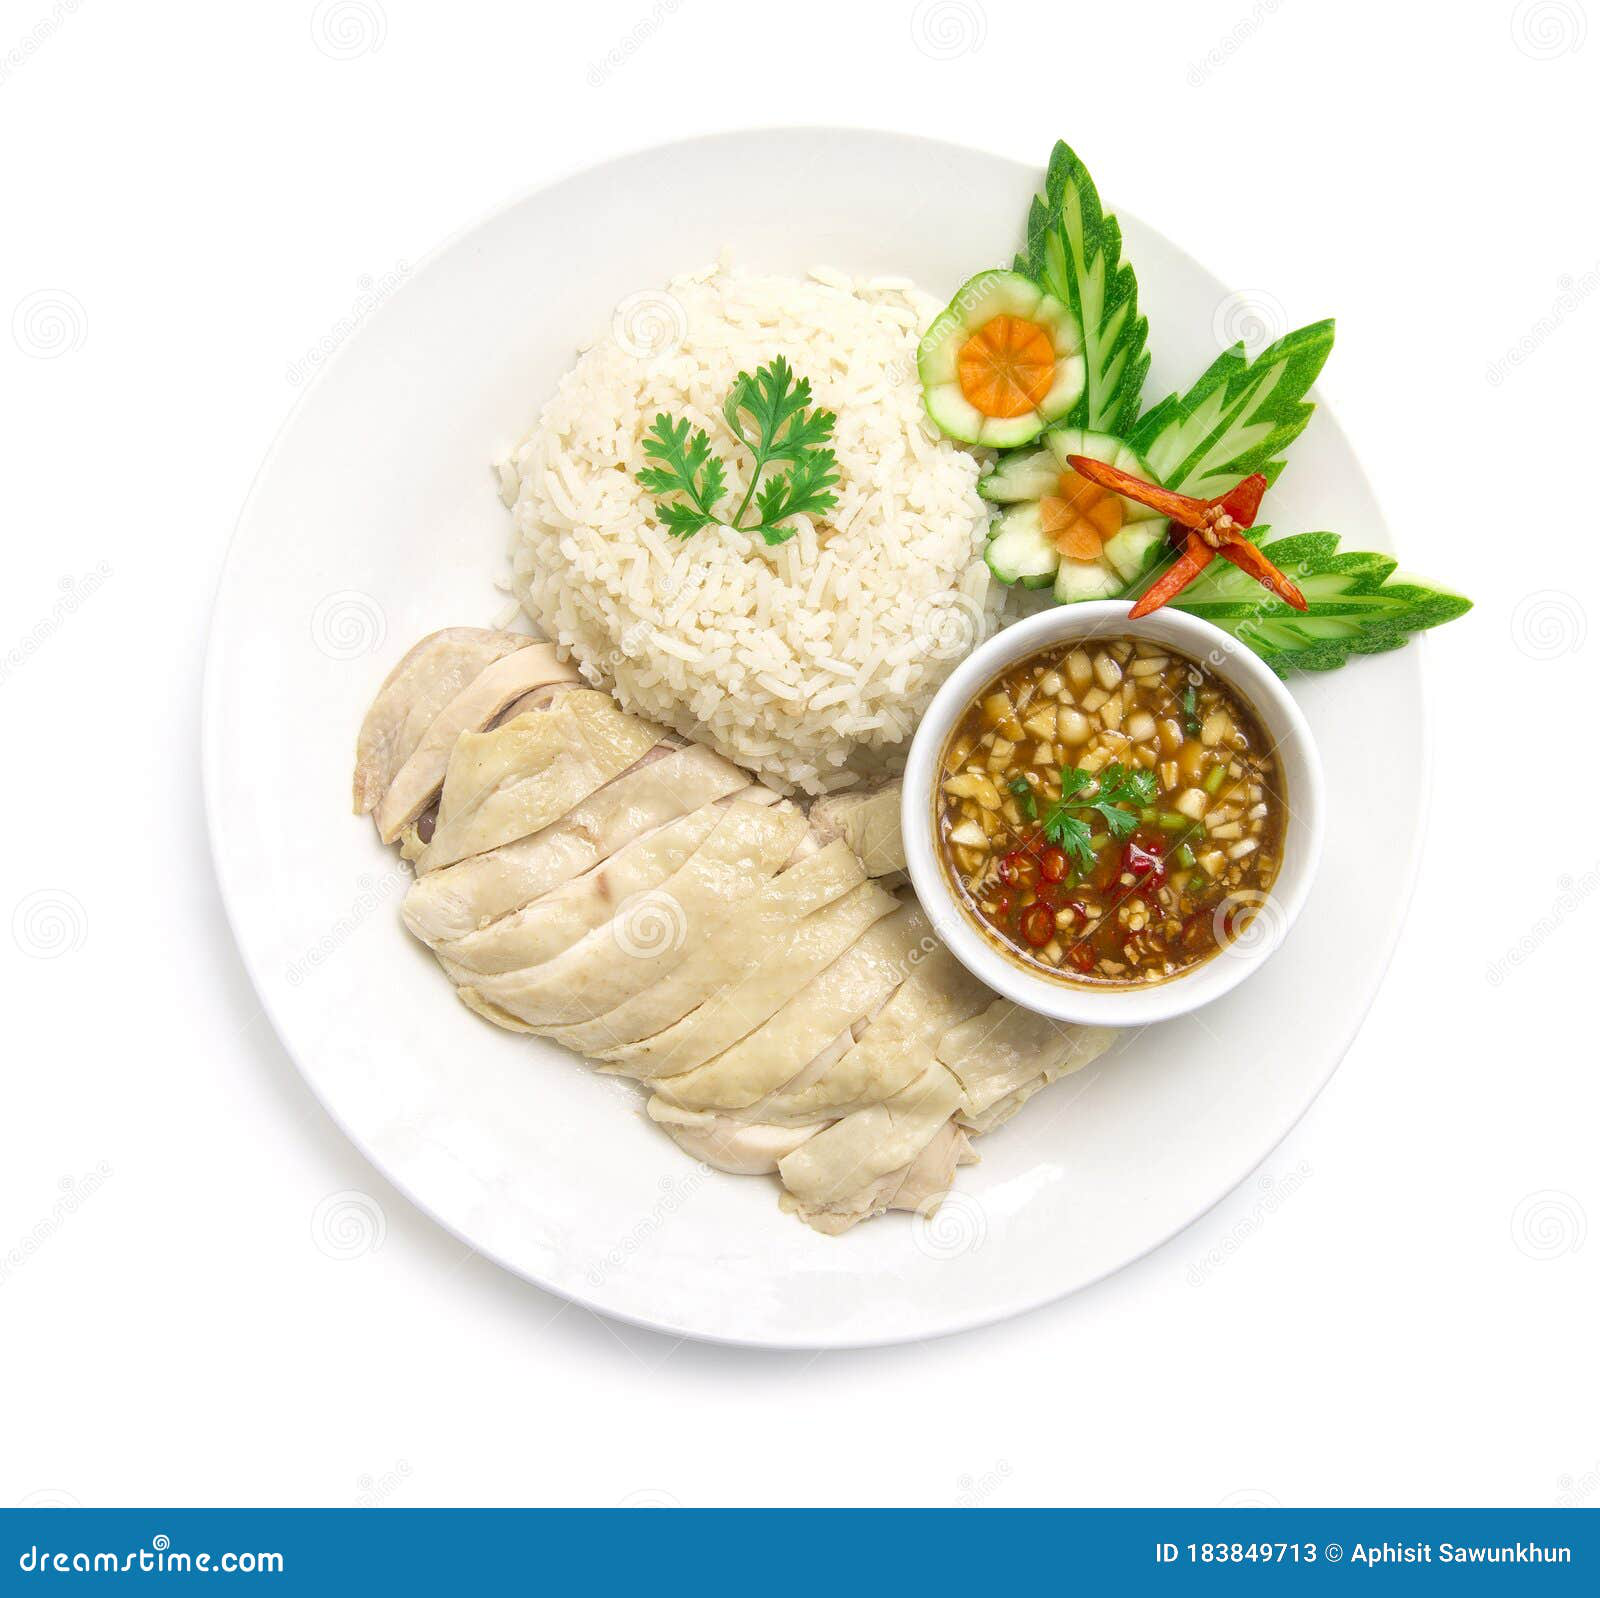Steamed Chicken Rice: (329, 222, 1036, 1235)
